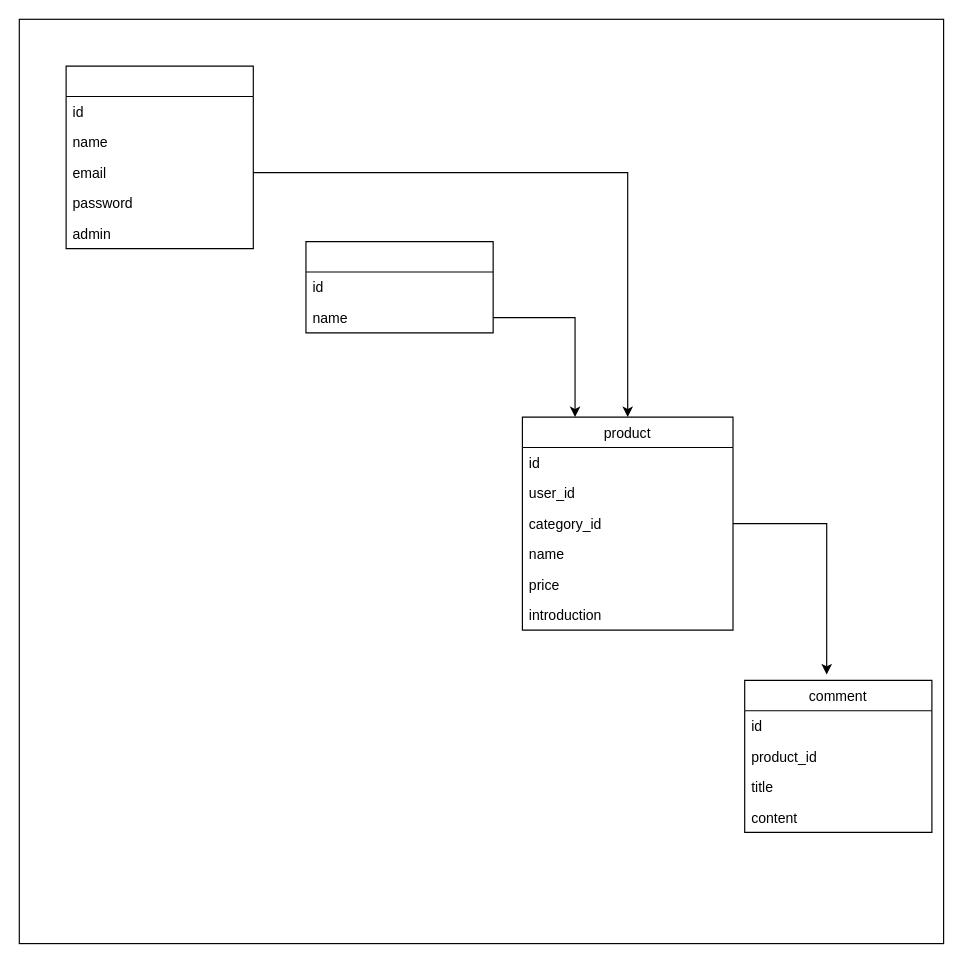
This 963x963 diagram has some shape labels left out. The shapes that lost their labels are listed below. From the top down, each one's box as (x1, y1, x2, y2) in pixels, then its label:
(65, 65, 253, 249): user
(305, 240, 493, 333): category
